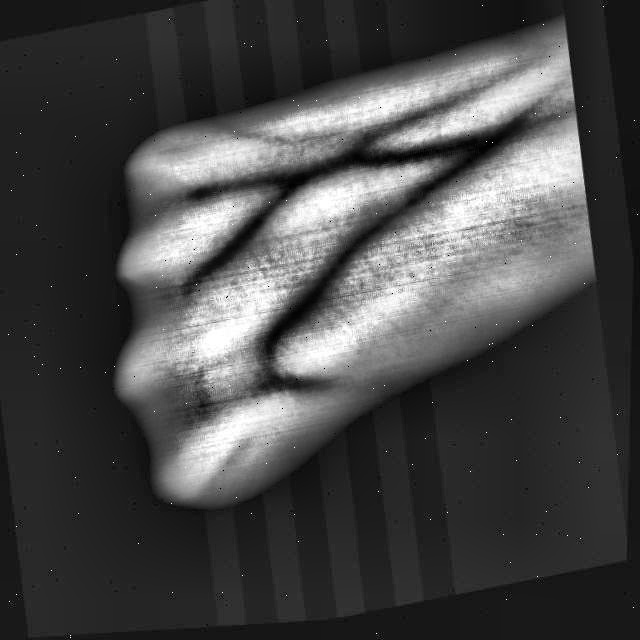Vein: (266, 163, 459, 327), (247, 128, 478, 190)
